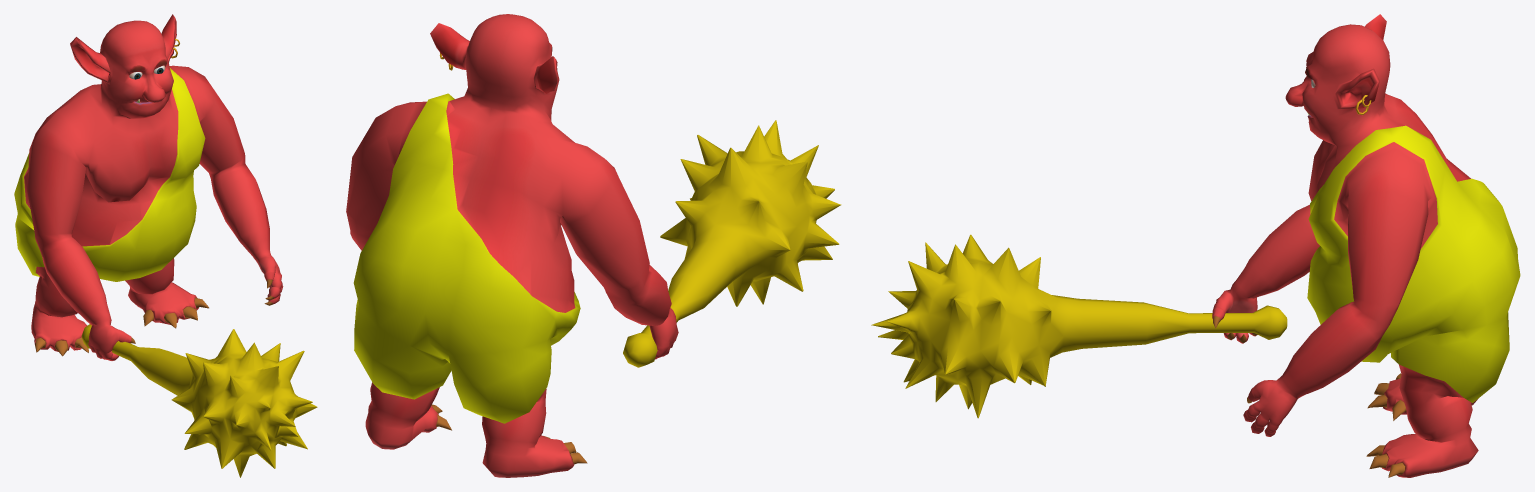
File: rakshas only mesh.fbx
The picture shows the model from 3 angles, left to right: view 1: azimuth 30°, elevation 25°; view 2: azimuth 150°, elevation 25°; view 3: azimuth 270°, elevation 25°; orthographic projection. The views are drawn at different scales.
Visible parts, largest first — view 1: rakshas; view 2: rakshas; view 3: rakshas.
Part boxes in pixels (x1,y1,x2,y2): rakshas: (14,14,317,477); rakshas: (346,14,841,477); rakshas: (871,14,1520,477).
Bounding box in the file's own units: 45.87 × 62.63 × 90.4.
Materials: 4 (2 with a texture image).
